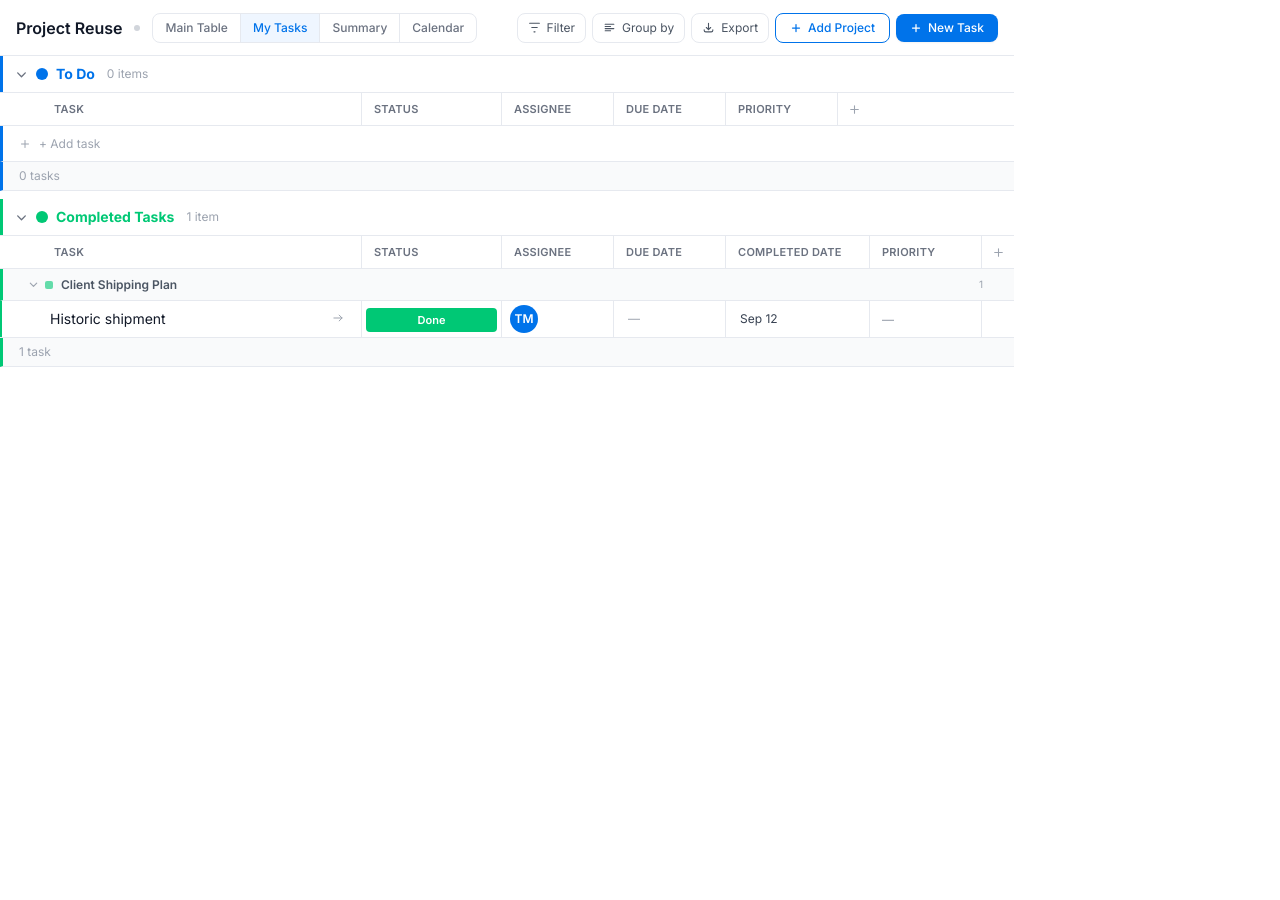
selecting an existing project for new tasks › creates a To Do counterpart for a completed-only name while preserving completed tasks and projects
The width and height of the screenshot is (1280, 900).
Click the button "Add Project": (833, 28) [775,12,890,42]
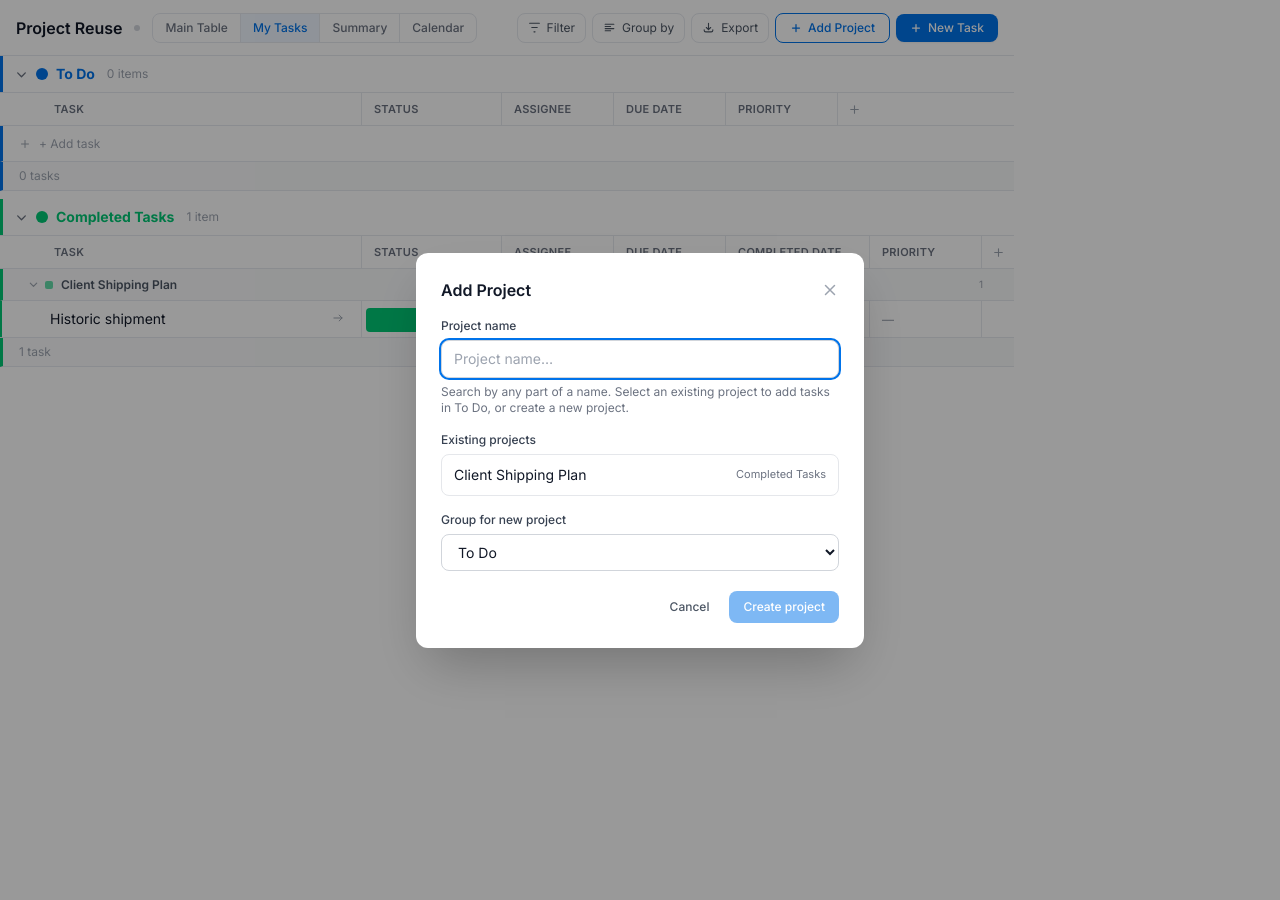
Click the button "Client Shipping Plan Completed Tasks": (520, 474) [442,454,838,494]
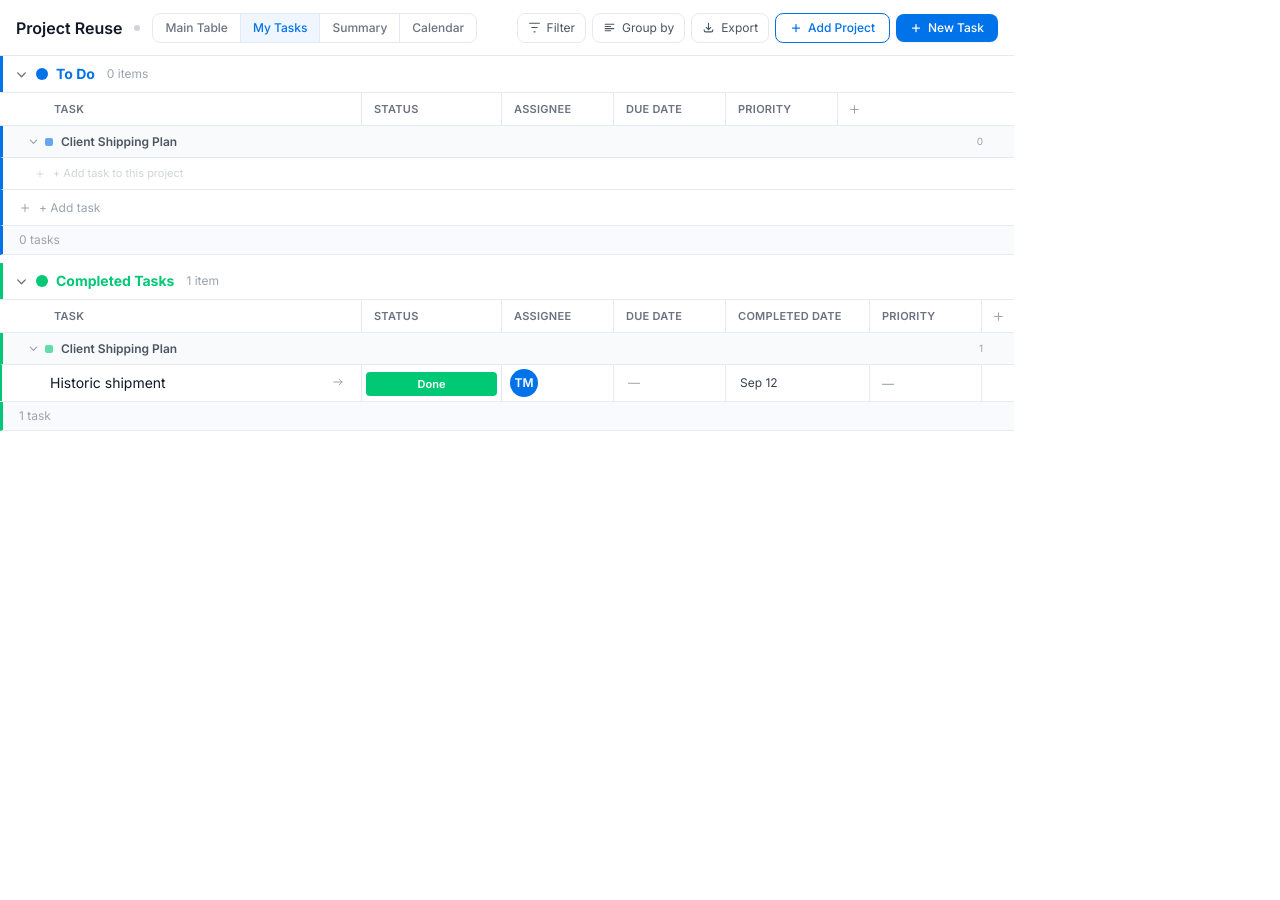
Check: the text "+ Add task to this project" is shown, box [53,165,183,182]
